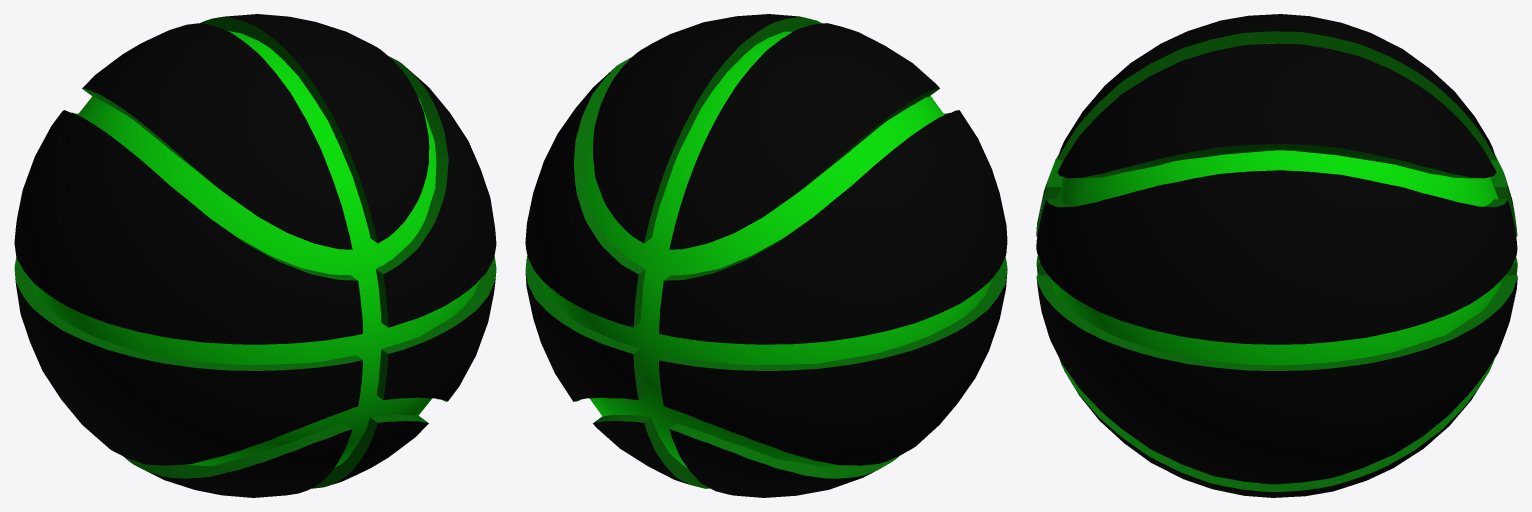
Rendered from Basketball.fbx.
3 renders of one model, left to right at view 1: azimuth 30°, elevation 25°; view 2: azimuth 150°, elevation 25°; view 3: azimuth 270°, elevation 25°, orthographic.
Parts seen in each view (by area): view 1: Basketball; view 2: Basketball; view 3: Basketball.
Boxes of the visible parts, <box> form: Basketball: <box>14,14,496,497</box>; Basketball: <box>525,14,1007,497</box>; Basketball: <box>1036,14,1517,497</box>.
Bounding box in the file's own units: 0.7956 × 0.7957 × 0.7943.
